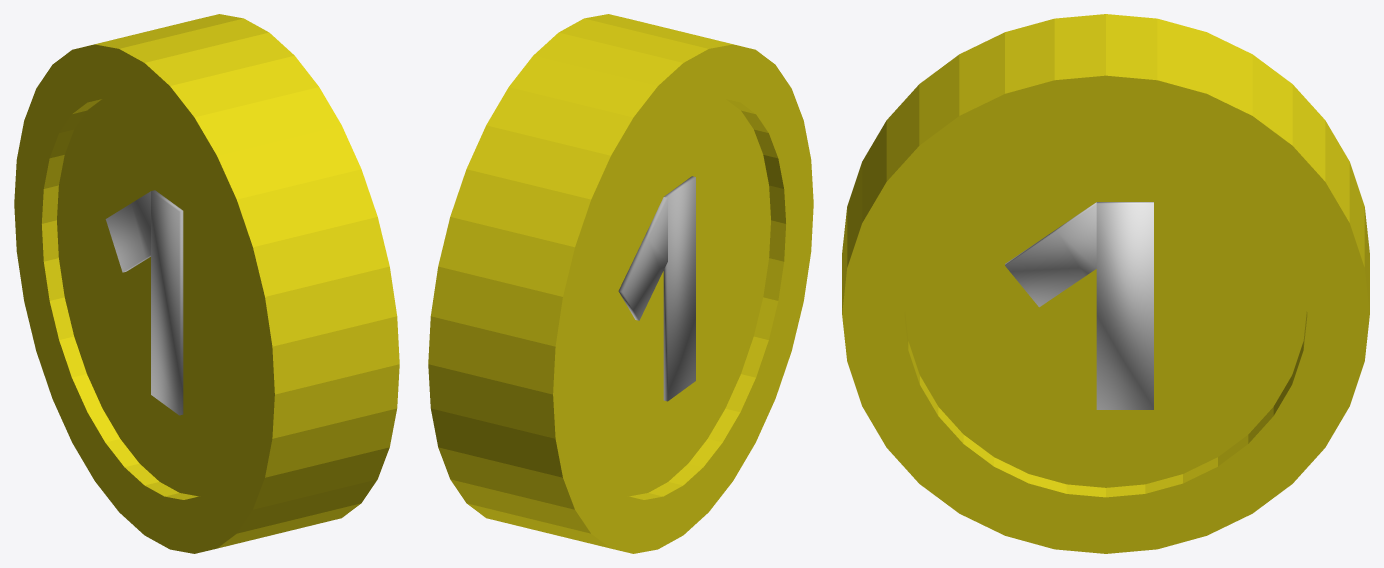
The model's file is coin.fbx.
The picture shows the model from 3 angles, left to right: view 1: azimuth 30°, elevation 25°; view 2: azimuth 150°, elevation 25°; view 3: azimuth 270°, elevation 25°; orthographic projection.
Parts seen in each view (by area): view 1: Cylinder, Cube.003; view 2: Cylinder, Cube.003; view 3: Cylinder, Cube.002.
Part boxes in pixels (box(x1,y1,x2,y2)): Cylinder: box(14, 14, 399, 553); Cube.003: box(105, 190, 183, 415); Cylinder: box(428, 14, 813, 553); Cube.003: box(618, 176, 695, 401); Cylinder: box(842, 14, 1369, 553); Cube.002: box(1005, 202, 1153, 409).
Bounding box in the file's own units: 544 × 150 × 544.
